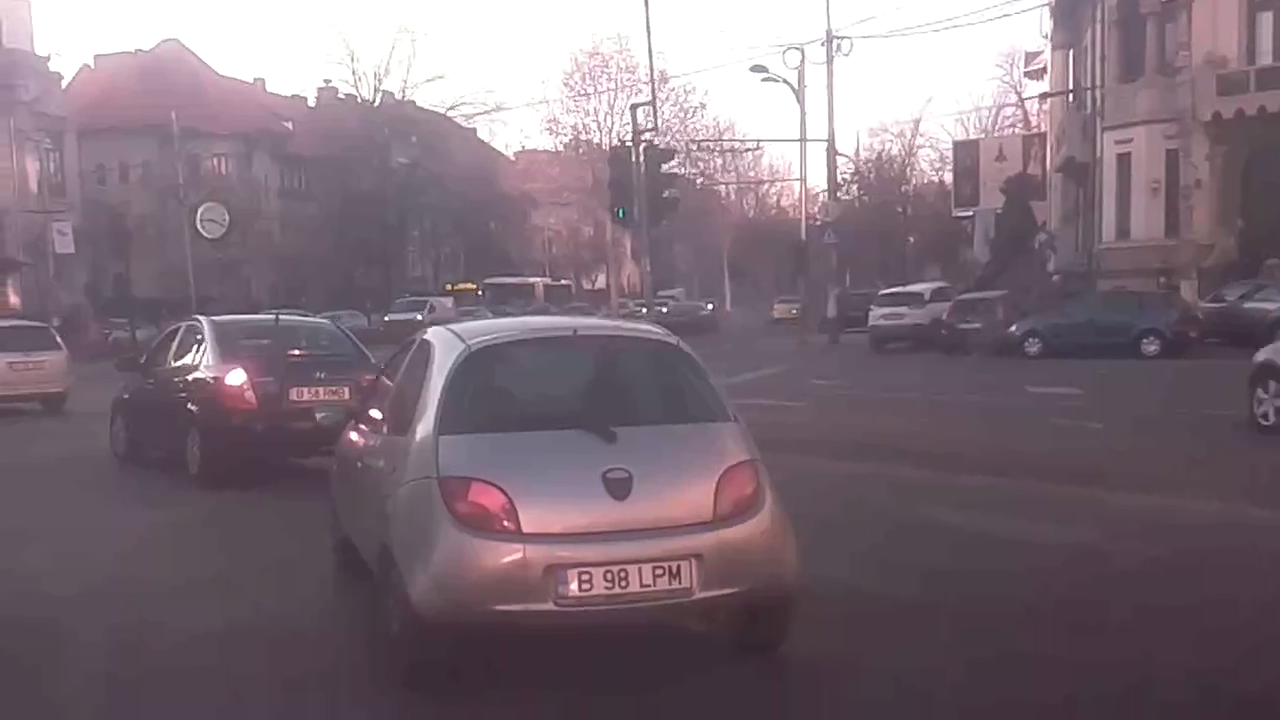license-plate: (551, 549, 697, 605)
